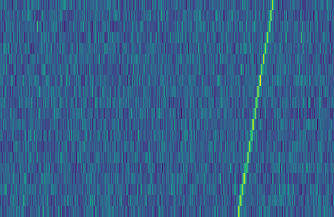signal: (235, 0, 280, 217)
